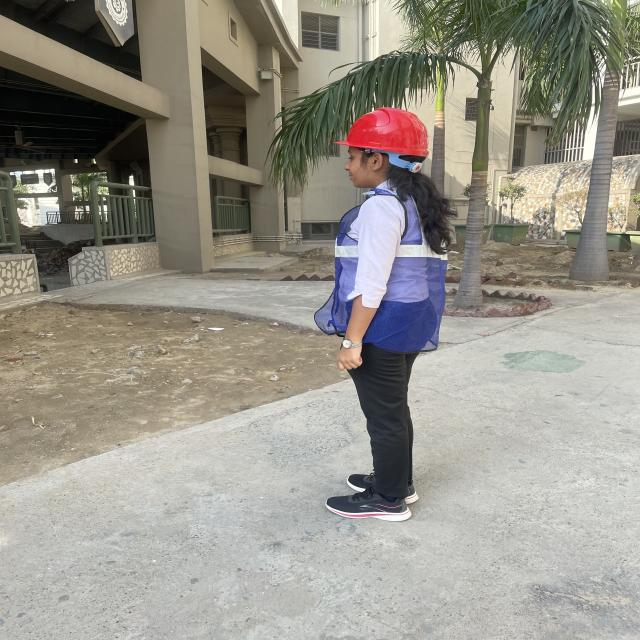safe: (315, 108, 447, 521)
